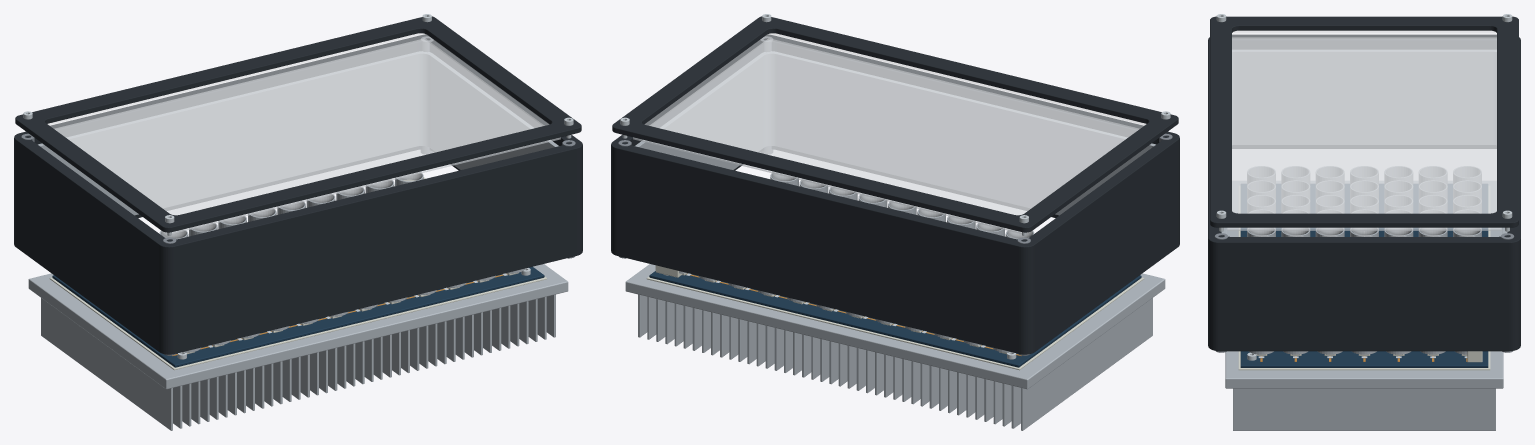
File: uv_light_engine.glb
3 renders of one model, left to right at view 1: azimuth 30°, elevation 25°; view 2: azimuth 150°, elevation 25°; view 3: azimuth 270°, elevation 25°, orthographic.
Parts seen in each view (by area): view 1: PRT_Light_Housing, PRT_Collimating_Plate, PRT_Diffuser, PRT_Reflector, PRT_Optical_Frame, PRT_HeatSink_Base, PRT_HeatSink_Fin_0, PCB_UV_LED_Array, PRT_ThermalInterface; view 2: PRT_Light_Housing, PRT_Collimating_Plate, PRT_Diffuser, PRT_Reflector, PRT_Optical_Frame, PRT_HeatSink_Base, PRT_HeatSink_Fin_0, PCB_UV_LED_Array, PRT_ThermalInterface; view 3: PRT_Collimating_Plate, PRT_Diffuser, PRT_Light_Housing, PRT_Reflector, PRT_Optical_Frame, PRT_HeatSink_Fin_42, PRT_HeatSink_Base, PCB_UV_LED_Array, PRT_ThermalInterface, PRT_LED_Reflector, PRT_LED_Reflector.072, PRT_LED_Reflector.036 (+18 smaller).
Boxes of the visible parts, x1,y1,x2,y2 form: PRT_Light_Housing: (14, 34, 582, 354); PRT_Collimating_Plate: (48, 33, 548, 214); PRT_Diffuser: (55, 38, 560, 233); PRT_Reflector: (38, 51, 558, 215); PRT_Optical_Frame: (15, 16, 581, 232); PRT_HeatSink_Base: (28, 264, 568, 389); PRT_HeatSink_Fin_0: (41, 298, 172, 430); PCB_UV_LED_Array: (52, 266, 544, 367); PRT_ThermalInterface: (49, 276, 547, 370); PRT_Light_Housing: (611, 34, 1179, 354); PRT_Collimating_Plate: (645, 33, 1145, 214); PRT_Diffuser: (633, 38, 1138, 233); PRT_Reflector: (635, 51, 1155, 215); PRT_Optical_Frame: (612, 16, 1178, 232); PRT_HeatSink_Base: (625, 264, 1165, 389); PRT_HeatSink_Fin_0: (1021, 298, 1152, 430); PCB_UV_LED_Array: (649, 271, 1141, 367); PRT_ThermalInterface: (646, 276, 1144, 370); PRT_Collimating_Plate: (1232, 31, 1496, 213); PRT_Diffuser: (1227, 37, 1501, 230); PRT_Light_Housing: (1208, 34, 1520, 351); PRT_Reflector: (1221, 50, 1507, 233); PRT_Optical_Frame: (1210, 16, 1518, 227); PRT_HeatSink_Fin_42: (1233, 388, 1495, 430); PRT_HeatSink_Base: (1225, 181, 1503, 388); PCB_UV_LED_Array: (1240, 184, 1488, 367); PRT_ThermalInterface: (1238, 186, 1490, 370); PRT_LED_Reflector: (1247, 166, 1275, 184); PRT_LED_Reflector.072: (1453, 166, 1481, 184); PRT_LED_Reflector.036: (1350, 166, 1378, 184).
Size of the model in its own units: 0.258 by 0.1285 by 0.164.
